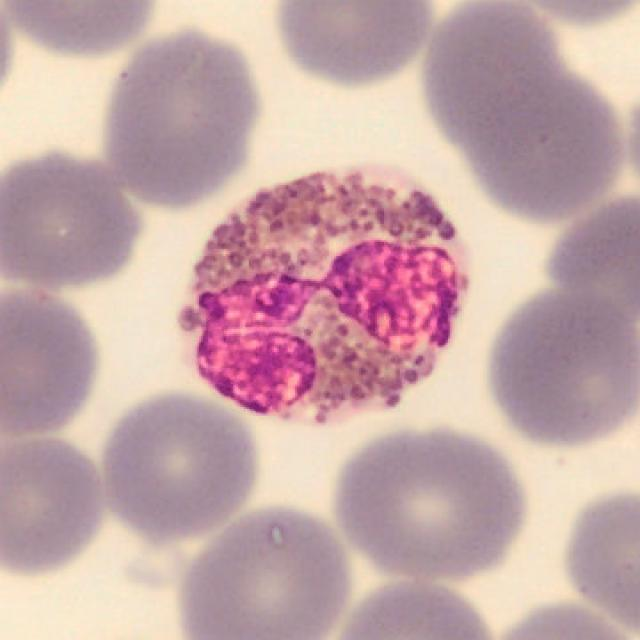Eosinofilo: (181, 172, 468, 421)
